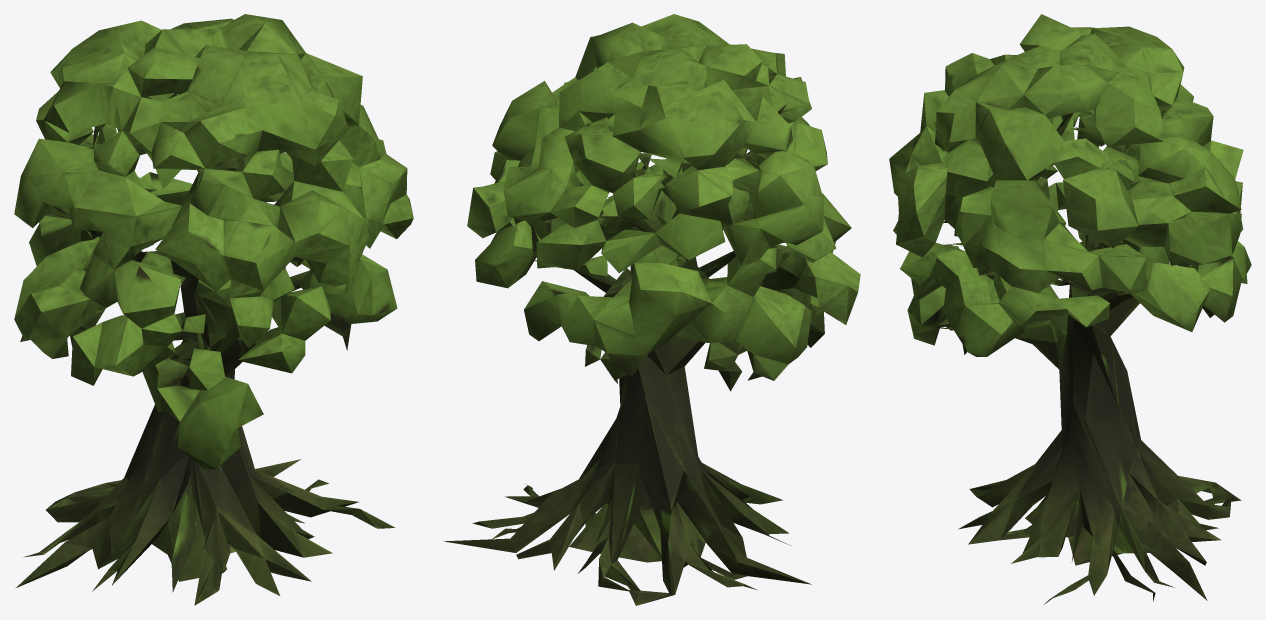
3 renders of one model, left to right at view 1: azimuth 30°, elevation 25°; view 2: azimuth 150°, elevation 25°; view 3: azimuth 270°, elevation 25°, orthographic. The views are drawn at different scales.
Visible parts, largest first — view 1: oak; view 2: oak; view 3: oak.
Part boxes in pixels (left/top/right/bottom): oak: left=14, top=14, right=413, bottom=605; oak: left=443, top=14, right=860, bottom=605; oak: left=889, top=14, right=1251, bottom=604.
Bounding box in the file's own units: 1.34 × 1.88 × 1.27.
1 material, 1 textured.
